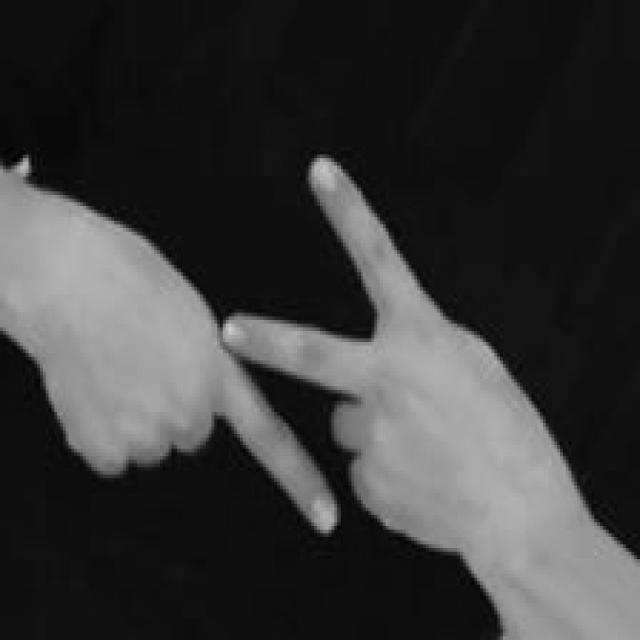Z: (33, 136, 544, 555)
